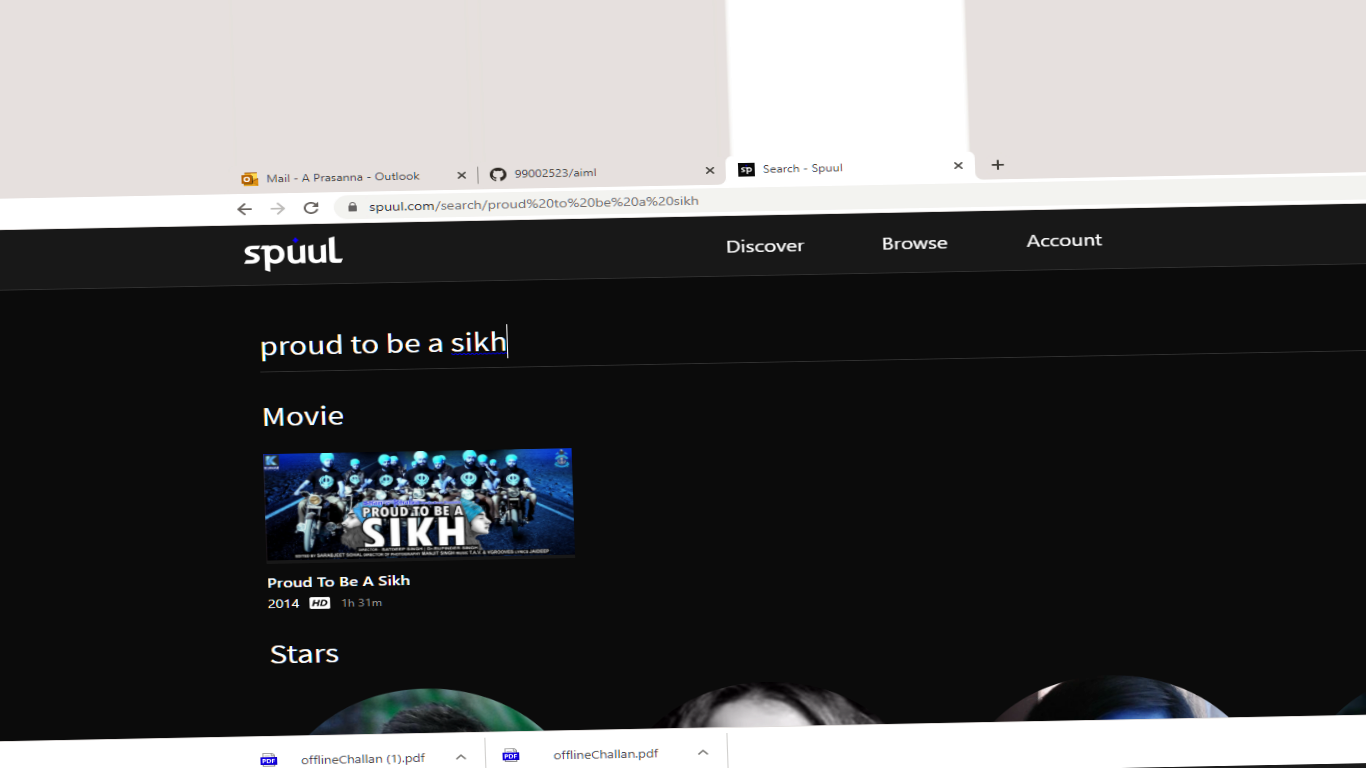myaccountbutton: (998, 215, 1127, 266)
resultsfound: (248, 374, 370, 441)
searchtextbox: (245, 300, 1348, 372)
